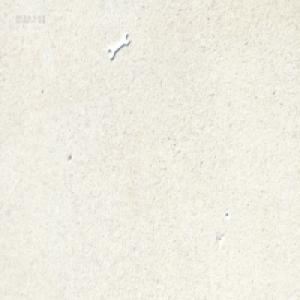Wrench: (108, 28, 130, 57)
